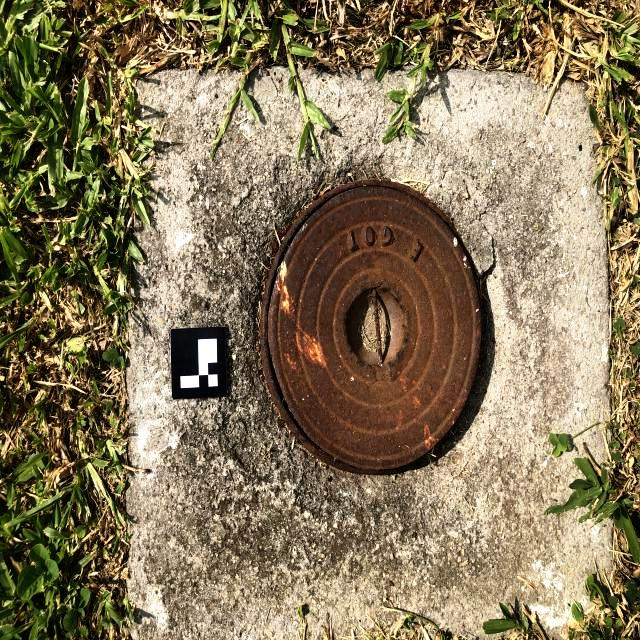Corrosion: (259, 178, 483, 475)
